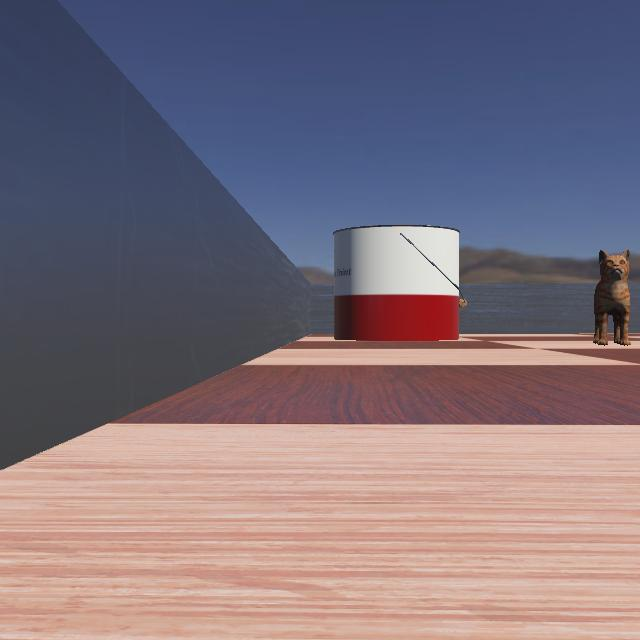cat: (553, 246, 639, 346), (553, 246, 639, 346)
paint-bucket: (330, 223, 478, 341)
